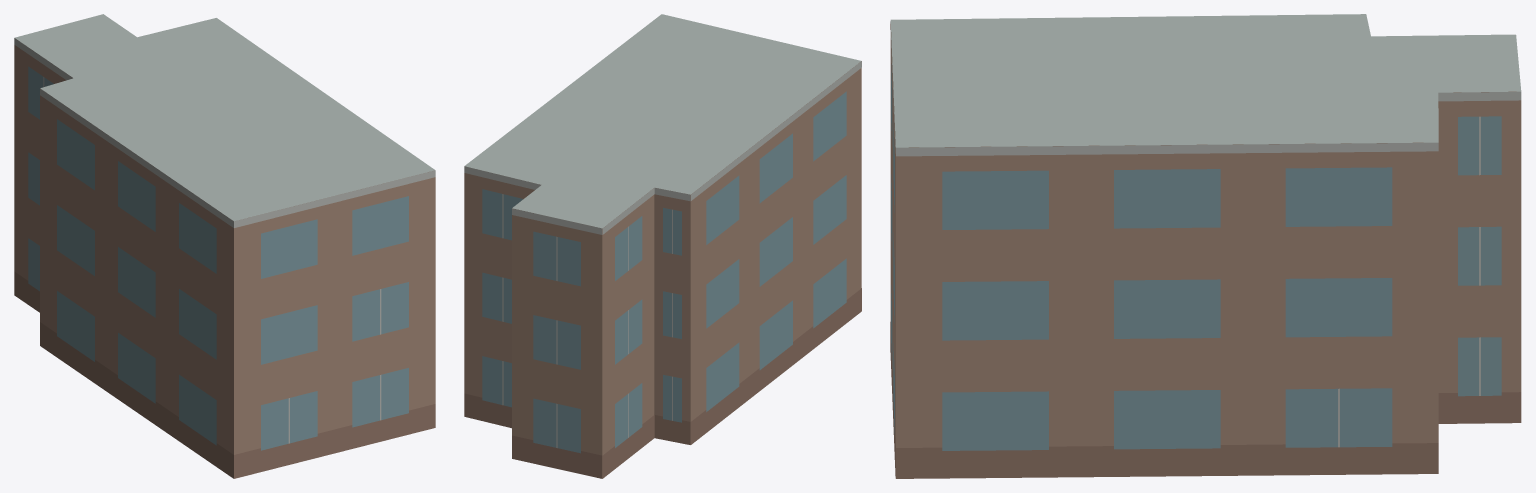
Rendered from survey-upis-32839142.glb.
3 views of the same model, side by side, from view 1: azimuth 30°, elevation 25°; view 2: azimuth 150°, elevation 25°; view 3: azimuth 270°, elevation 25° (orthographic). The views are drawn at different scales.
Parts seen in each view (by area): view 1: survey-upis-32839142.tmp; view 2: survey-upis-32839142.tmp; view 3: survey-upis-32839142.tmp.
Boxes of the visible parts, left/top/right/bottom form: survey-upis-32839142.tmp: left=14, top=14, right=435, bottom=478; survey-upis-32839142.tmp: left=464, top=14, right=861, bottom=478; survey-upis-32839142.tmp: left=890, top=14, right=1521, bottom=478.
Bounding box in the file's own units: 7.92 × 9.15 × 15.8.
